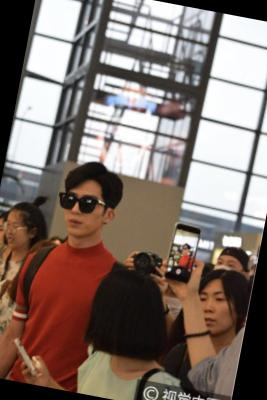without_mask: (58, 187, 108, 242), (193, 286, 242, 339), (1, 217, 30, 250)
